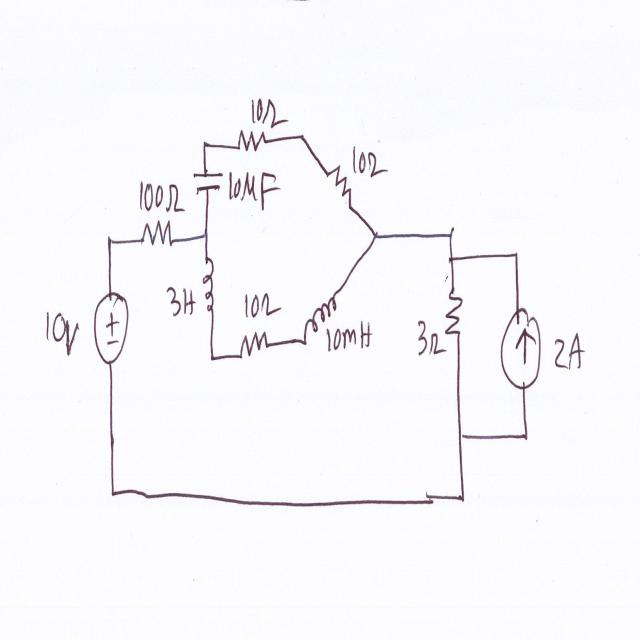capacitor: (193, 170, 223, 197)
current_source: (498, 302, 542, 394)
inductor: (297, 295, 338, 350), (200, 251, 218, 315)
resistor: (442, 285, 469, 349), (138, 214, 179, 254), (321, 162, 356, 207), (235, 328, 270, 363), (236, 127, 270, 157)
voltage_source: (92, 282, 131, 374)
